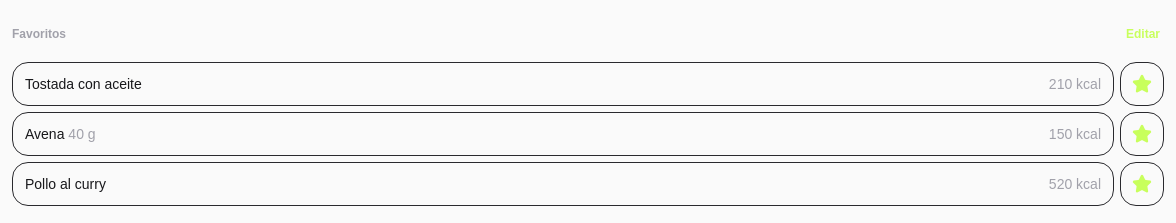
Test: «Editar»: lista completa y lápices (R4, R12) › R4: personalizadas y alimentos llevan lápiz; las recetas, no
Click the button "Editar": (1143, 34) left=1122, top=12, right=1164, bottom=56
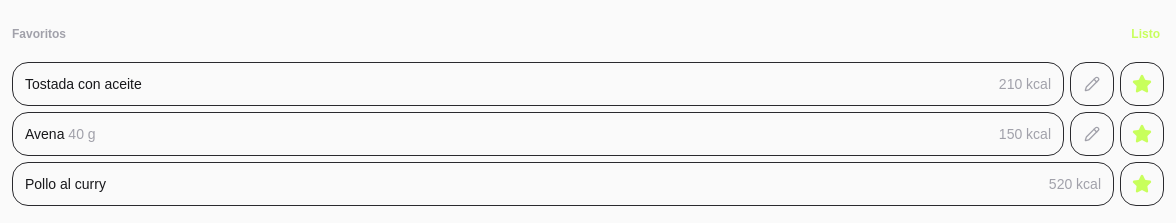
Expected: the button named "Quitar Pollo al curry de Favoritos" is shown, left=1120, top=162, right=1164, bottom=206
Expected: the button named "Editar Tostada con aceite" is shown, left=1070, top=62, right=1114, bottom=106
Expected: the button named "Editar Avena" is shown, left=1070, top=112, right=1114, bottom=156
